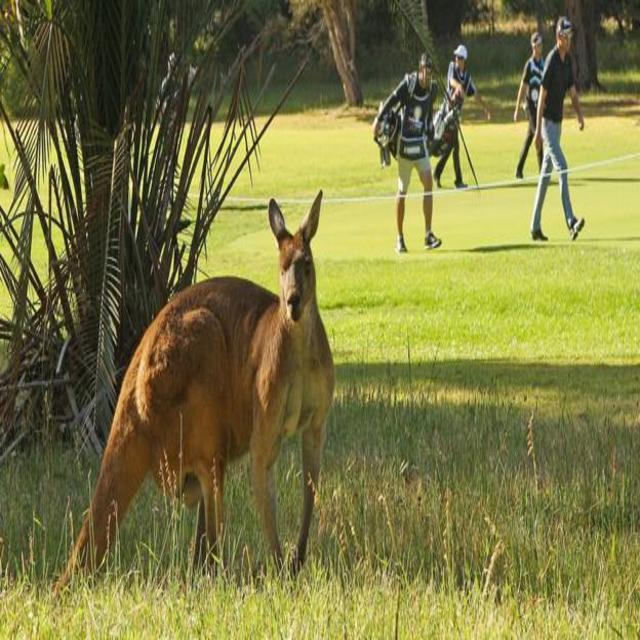kangaroo: (99, 189, 348, 582)
